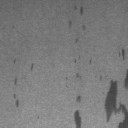red iron: (99, 48, 128, 128), (68, 5, 84, 28), (74, 58, 92, 78), (74, 94, 82, 128), (13, 94, 19, 108), (14, 77, 18, 86), (30, 64, 34, 72), (75, 38, 80, 44), (13, 58, 18, 64)
